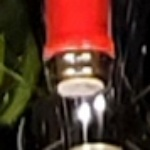bottle: (30, 31, 132, 120)
